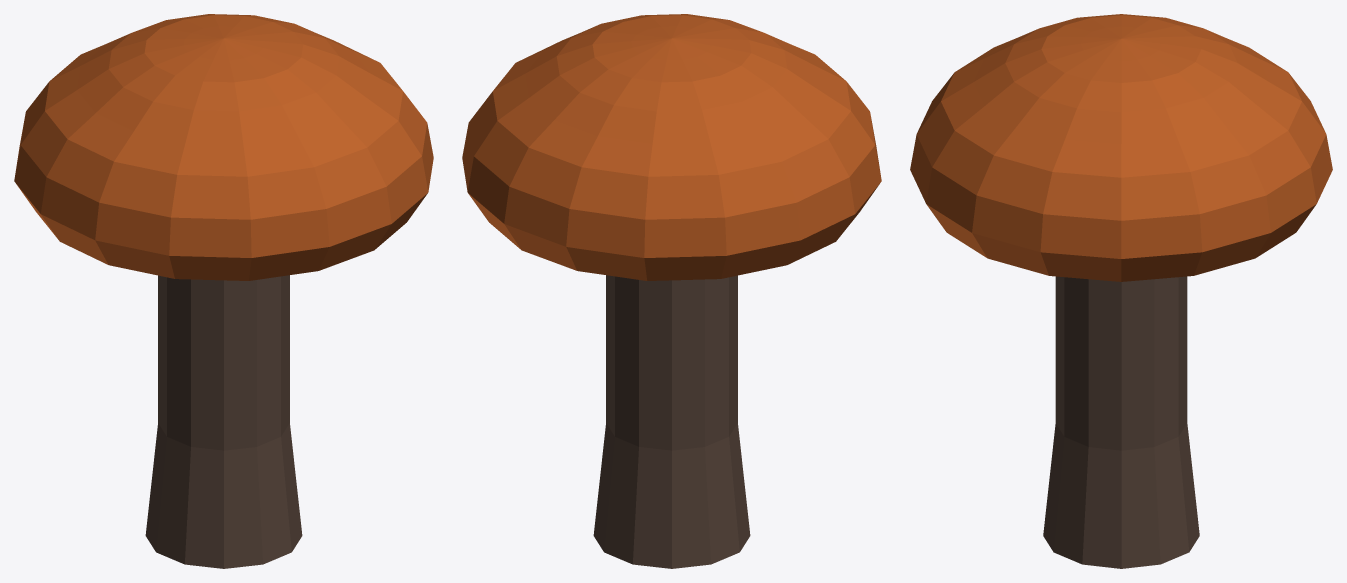
Rendered from Leccinum_big.fbx.
3 views of the same model, side by side, from view 1: azimuth 30°, elevation 25°; view 2: azimuth 150°, elevation 25°; view 3: azimuth 270°, elevation 25° (orthographic).
Visible parts, largest first — view 1: Sphere; view 2: Sphere; view 3: Sphere.
Part boxes in pixels (bbox=[...]): Sphere: bbox=[14, 14, 433, 568]; Sphere: bbox=[462, 14, 881, 568]; Sphere: bbox=[910, 14, 1332, 568].
Bounding box in the file's own units: 88.45 × 115 × 88.45.
